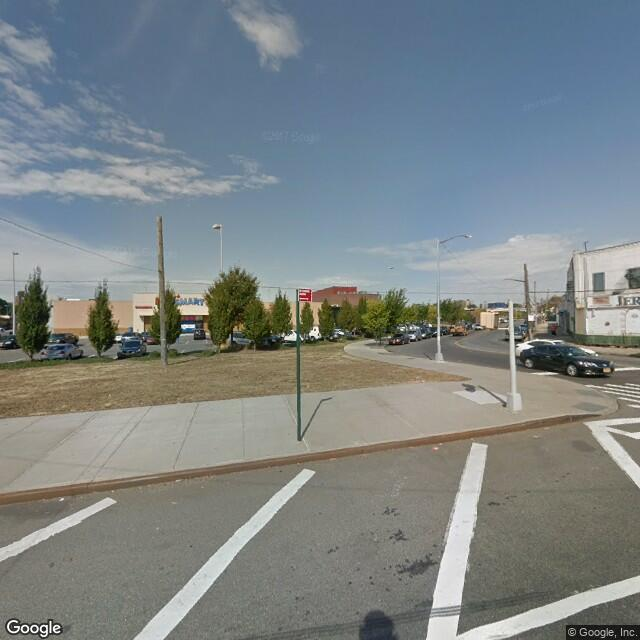litter: (422, 438, 454, 456), (49, 487, 70, 504)
